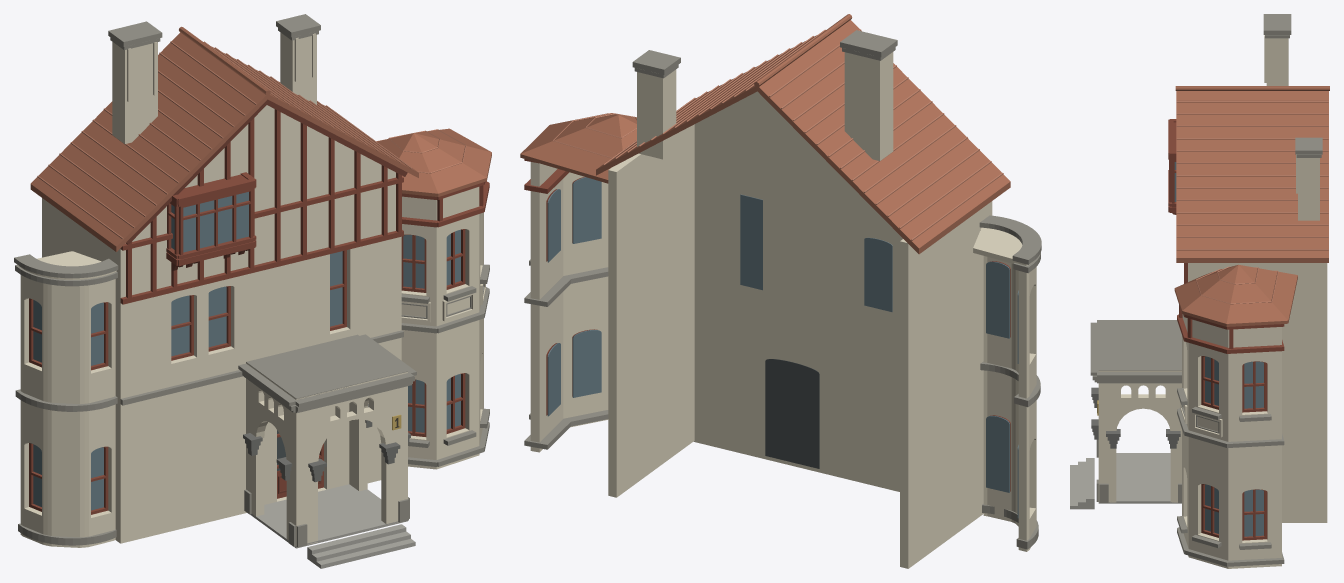
File: xuhui-dingxiang-garden-main-house-lod.glb
The picture shows the model from 3 angles, left to right: view 1: azimuth 30°, elevation 25°; view 2: azimuth 150°, elevation 25°; view 3: azimuth 270°, elevation 25°; orthographic projection. The views are drawn at different scales.
Parts seen in each view (by area): view 1: 丁香花园一号楼拱廊与露木山墙; view 2: 丁香花园一号楼拱廊与露木山墙; view 3: 丁香花园一号楼拱廊与露木山墙.
Boxes of the visible parts, <box> form: 丁香花园一号楼拱廊与露木山墙: <box>14,14,491,568</box>; 丁香花园一号楼拱廊与露木山墙: <box>520,14,1041,568</box>; 丁香花园一号楼拱廊与露木山墙: <box>1070,14,1329,568</box>.
Bounding box in the file's own units: 12.95 × 12.52 × 7.08.
